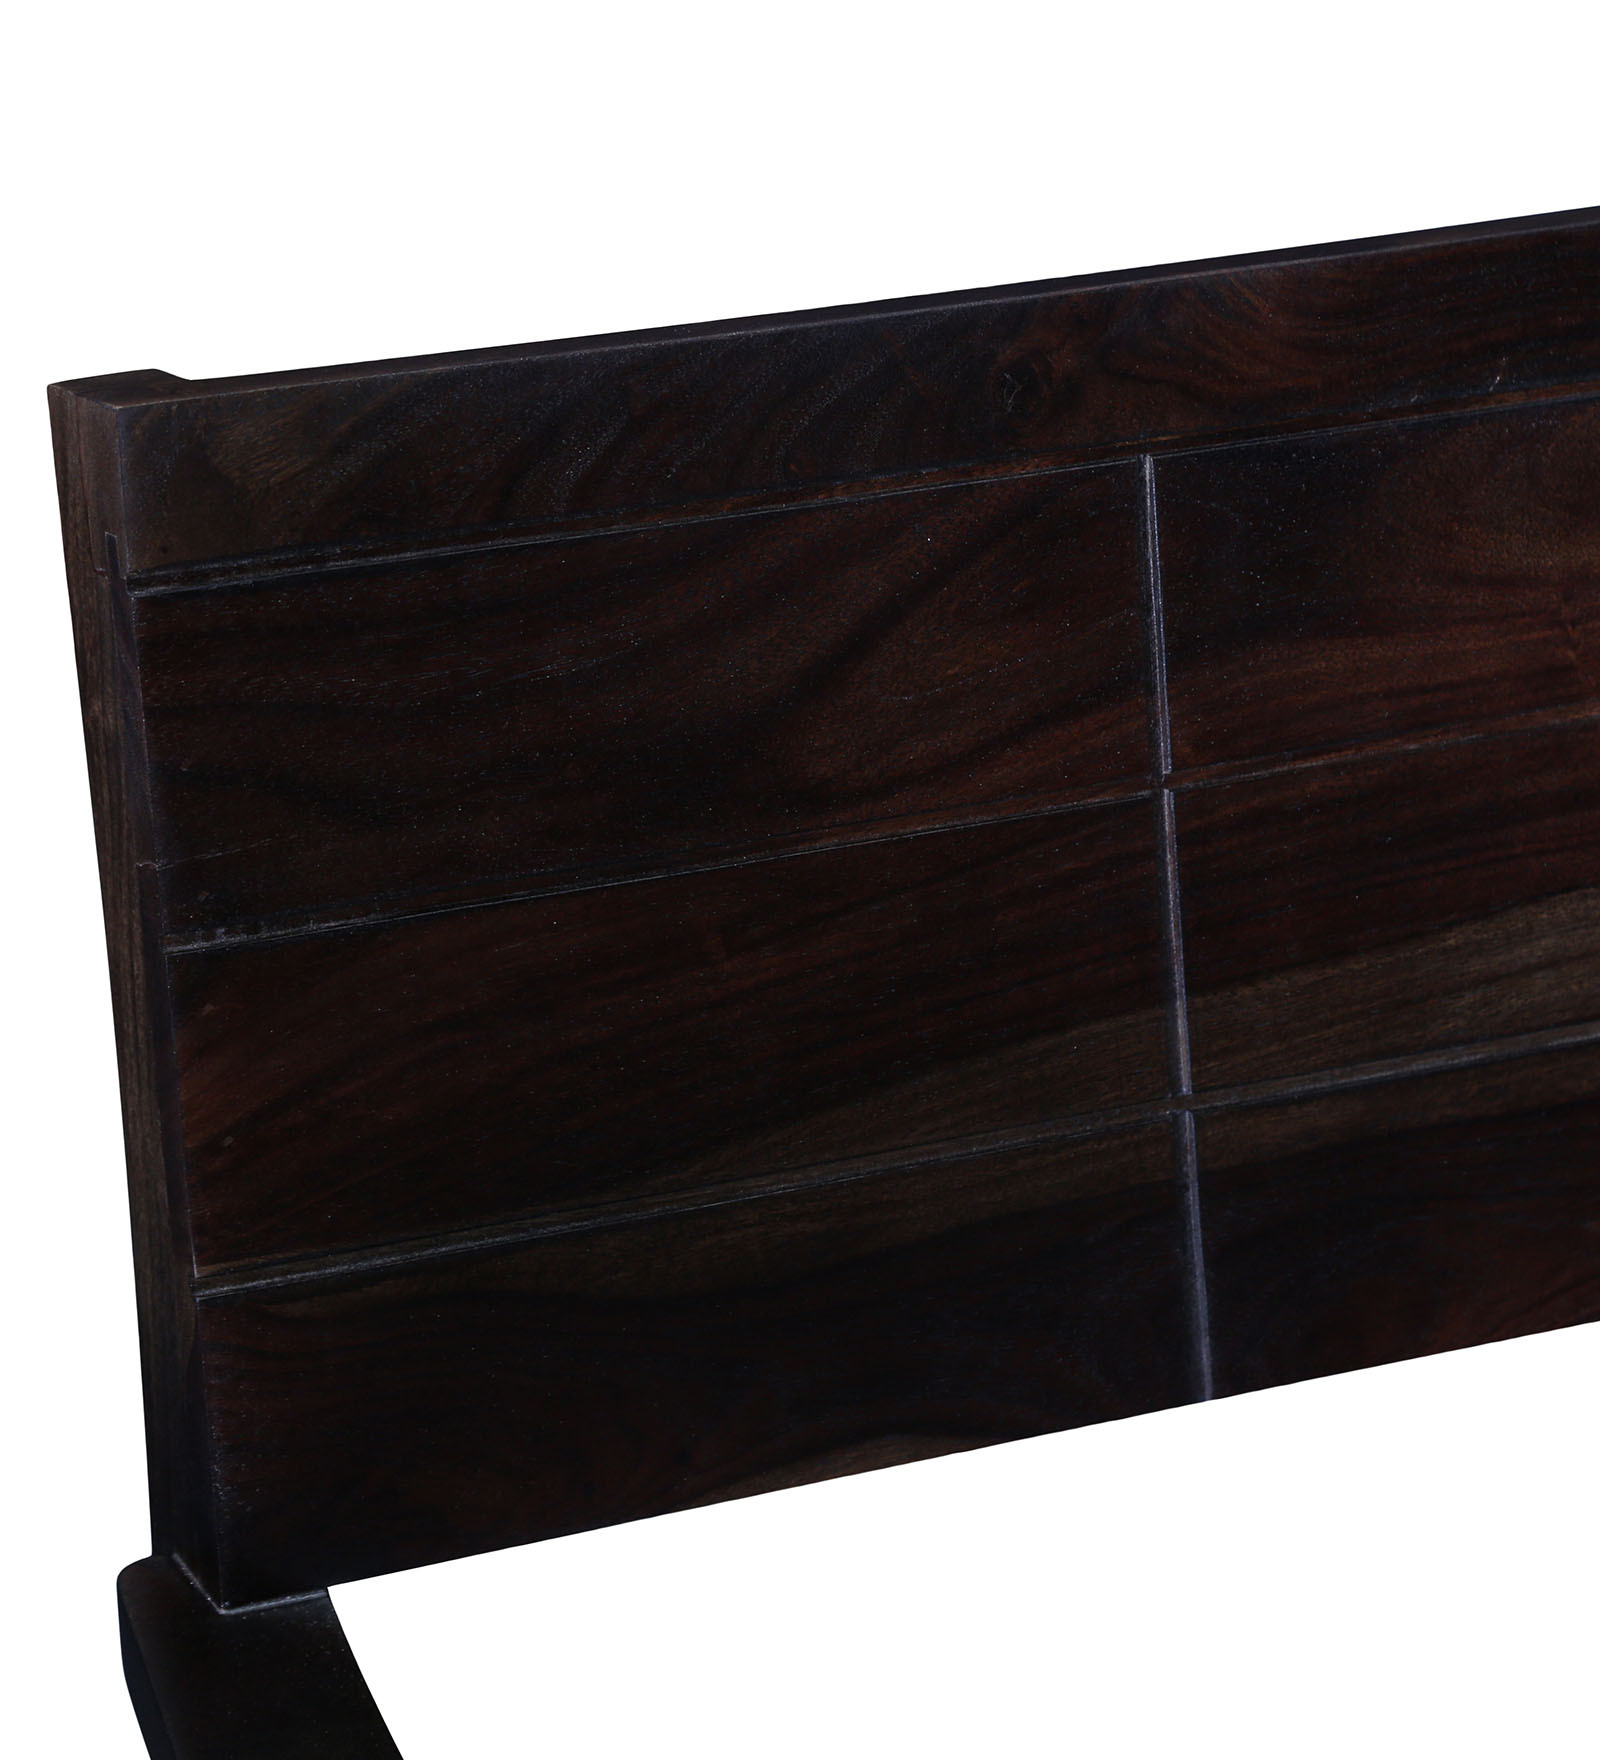Segur Arm Chair in Warm Chestnut Finish by Woodsworth: (17, 287, 1591, 1735)
